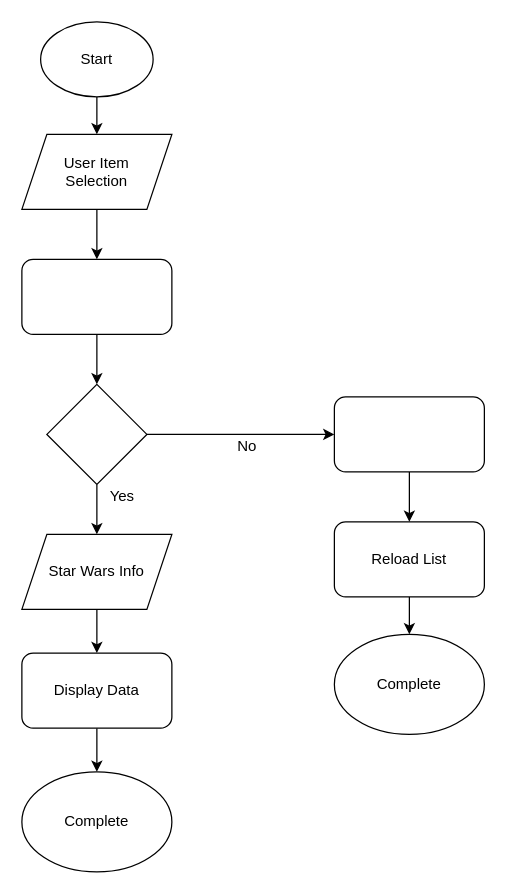
Image size: 506x894. Some labels were removed from this diagram. Here are the shapes that lost their labels. From the top down, the centre of each, then its label:
At [96,296]: "Request text data from API".
At [96,433]: "OK".
At [408,434]: "Display Error".
